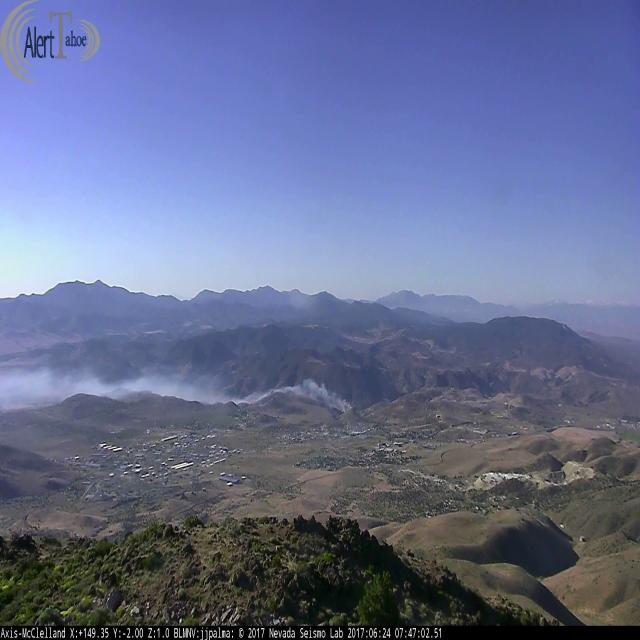smoke: (0, 365, 357, 412)
